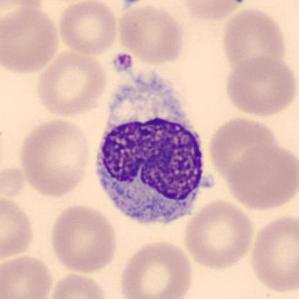Monocyte: (87, 72, 214, 234)
Platelets: (111, 52, 134, 72)
RBC: (17, 116, 92, 198), (47, 202, 120, 275), (182, 198, 256, 270), (34, 48, 109, 118), (206, 113, 279, 184), (224, 141, 297, 212), (222, 52, 297, 118), (219, 6, 289, 76), (118, 238, 195, 299), (118, 0, 189, 64), (0, 6, 62, 76), (248, 211, 298, 294), (56, 0, 120, 57), (0, 252, 55, 299), (0, 193, 36, 261), (44, 271, 109, 299), (0, 0, 45, 39), (182, 0, 249, 21)
